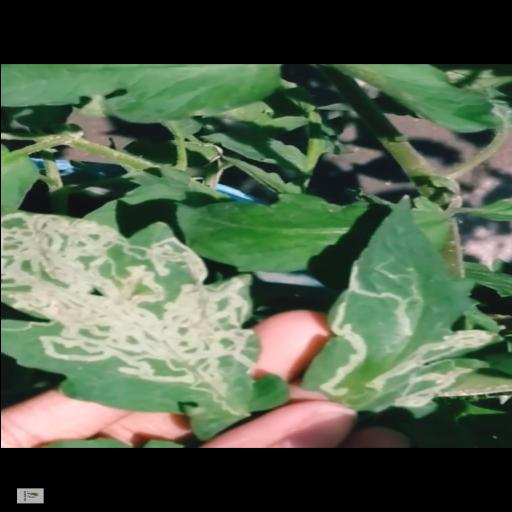disease_tomato: (0, 209, 290, 441), (295, 196, 497, 414)
